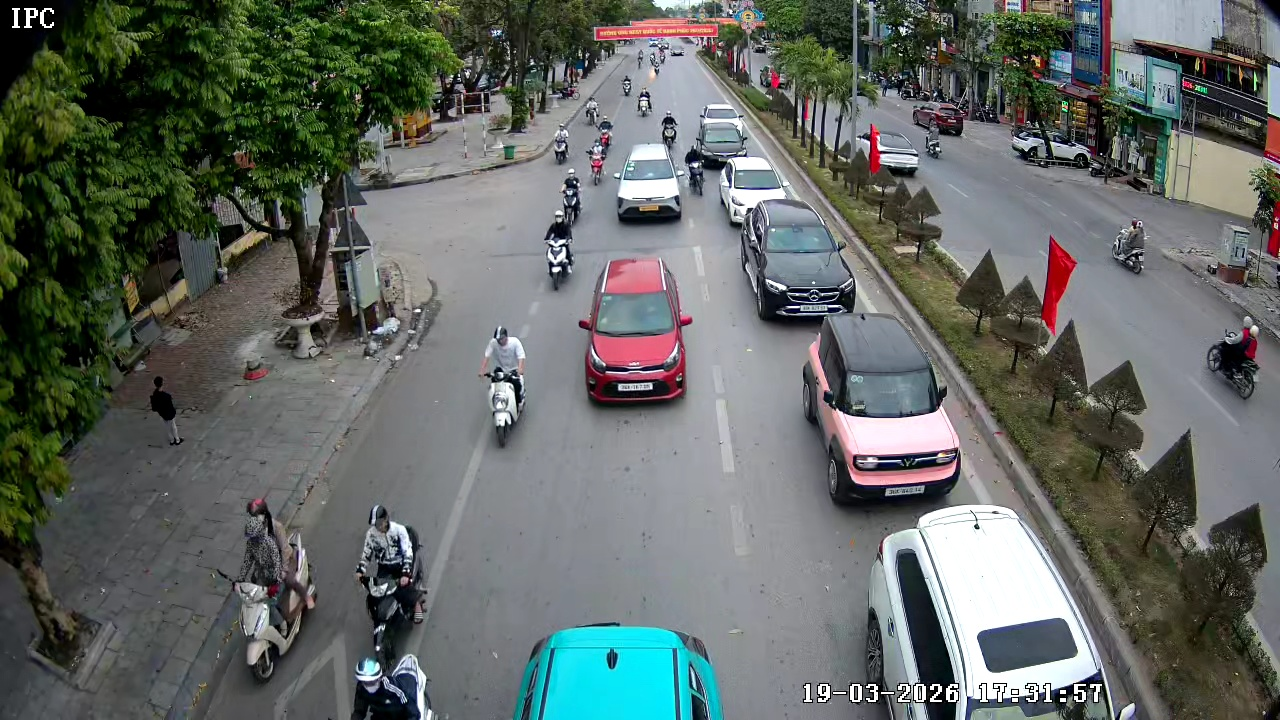car: (857, 503, 1128, 719), (801, 312, 961, 505), (578, 255, 692, 406), (737, 199, 857, 322), (614, 146, 683, 224), (717, 157, 787, 227), (689, 103, 748, 167)
motorbike: (229, 495, 316, 682), (354, 503, 429, 630), (478, 324, 530, 447), (1209, 314, 1262, 402), (543, 206, 577, 291), (1110, 217, 1148, 276), (560, 161, 585, 223), (585, 129, 609, 187), (687, 144, 712, 198), (660, 110, 678, 148), (553, 123, 570, 162), (585, 97, 602, 126), (638, 87, 654, 116)
pedestrian: (147, 376, 185, 449)
